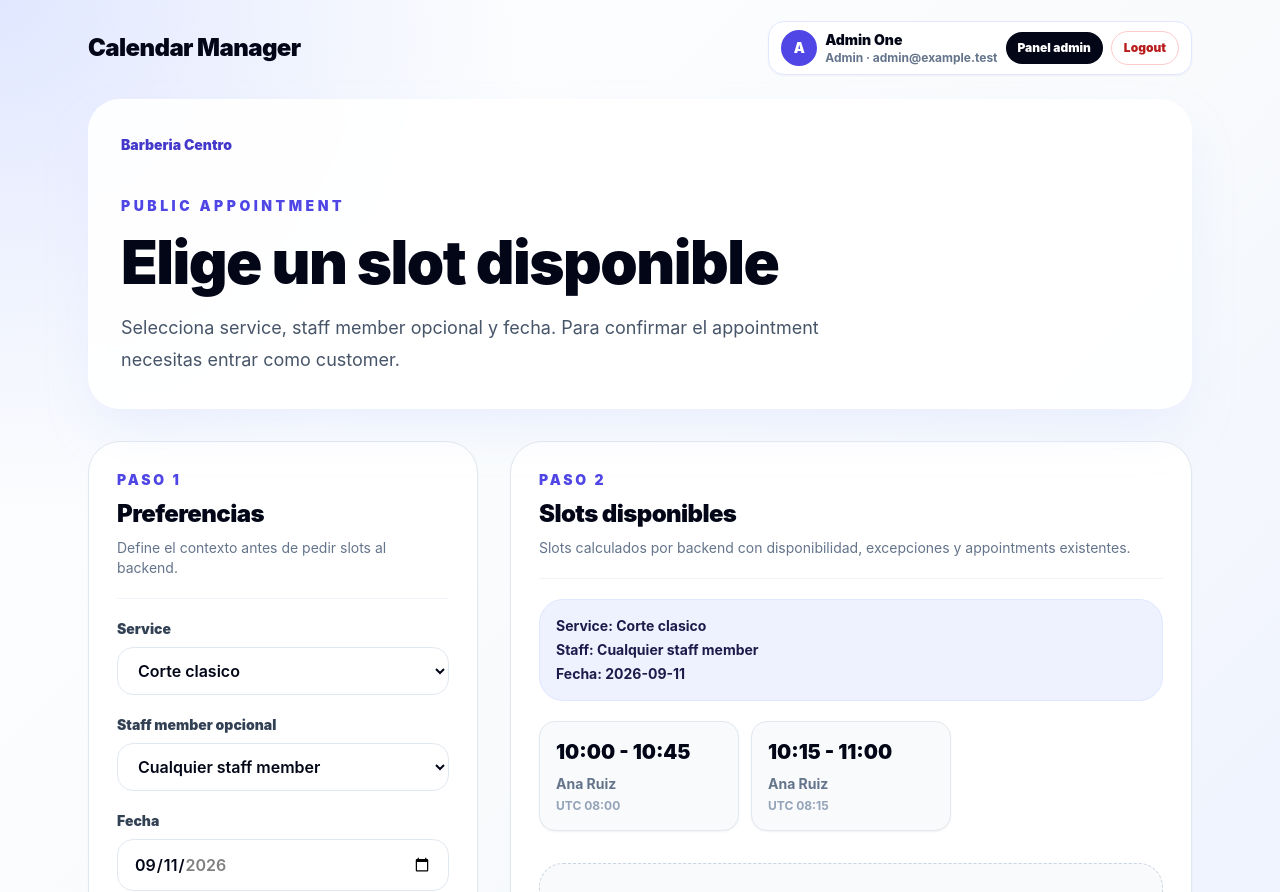
Test: appointment slot flow page › lets admin view slots without confirming appointments
This screenshot has width=1280, height=892.
Click the button "10:00 - 10:45 Ana Ruiz UTC 08:00" at (639, 776), box [539, 721, 739, 831]
(page scrolled)
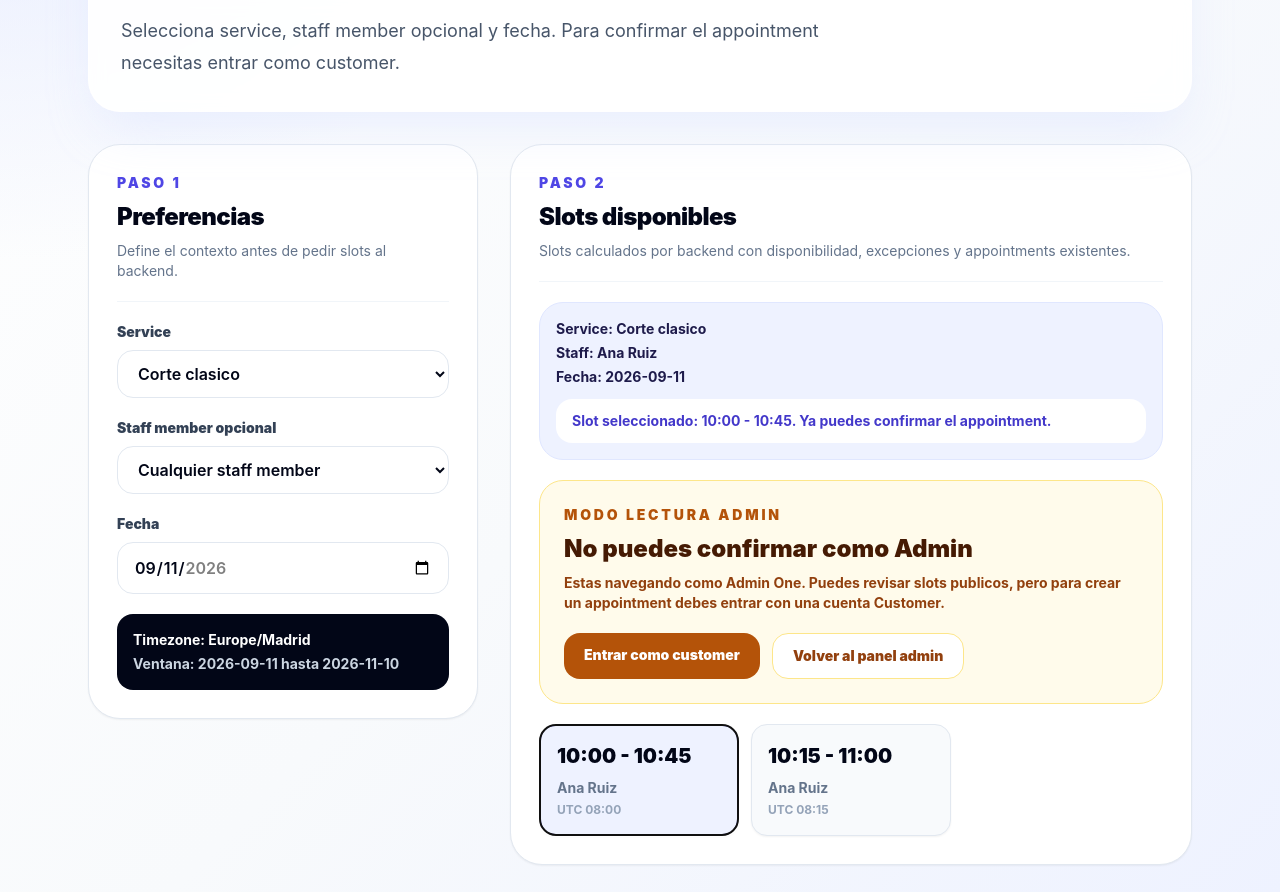
Expected: the heading "No puedes confirmar como Admin" is shown, [564, 534, 973, 563]
Expected: the text "Estas navegando como Admin One" is shown, [564, 573, 1138, 613]
